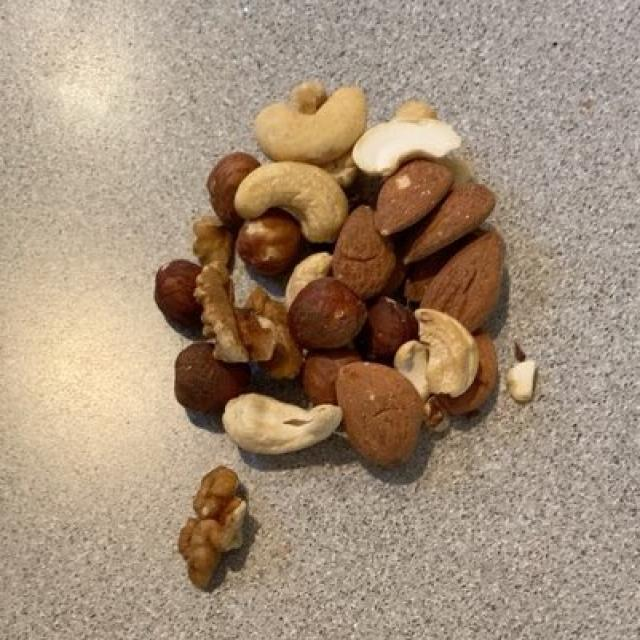mixed-nuts: (134, 81, 495, 588)
